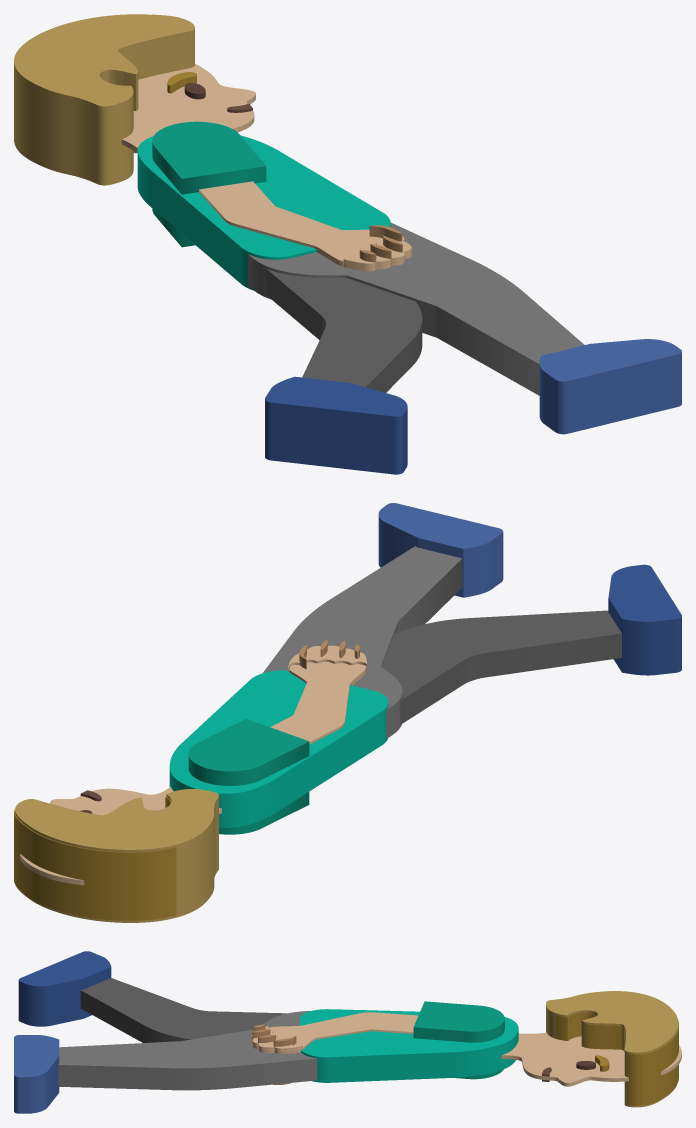
Rendered from emoji_u1f6b6_1f3fc_200d_2642_200d_27a1.glb.
3 views of the same model, one above another, from view 1: azimuth 30°, elevation 25°; view 2: azimuth 150°, elevation 25°; view 3: azimuth 270°, elevation 25° (orthographic). The views are drawn at different scales.
Visible parts, largest first — view 1: emoji_u1f6b6_1f3fc_200d_2642_200d_27a1; view 2: emoji_u1f6b6_1f3fc_200d_2642_200d_27a1; view 3: emoji_u1f6b6_1f3fc_200d_2642_200d_27a1.
Part boxes in pixels (left/top/right/bottom): emoji_u1f6b6_1f3fc_200d_2642_200d_27a1: left=14, top=14, right=681, bottom=474; emoji_u1f6b6_1f3fc_200d_2642_200d_27a1: left=14, top=503, right=681, bottom=922; emoji_u1f6b6_1f3fc_200d_2642_200d_27a1: left=14, top=951, right=681, bottom=1113.
Size of the model in its own units: 0.0145 by 0.003 by 0.0331.
